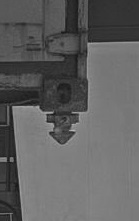twist_lock_2: (42, 101, 89, 149)
